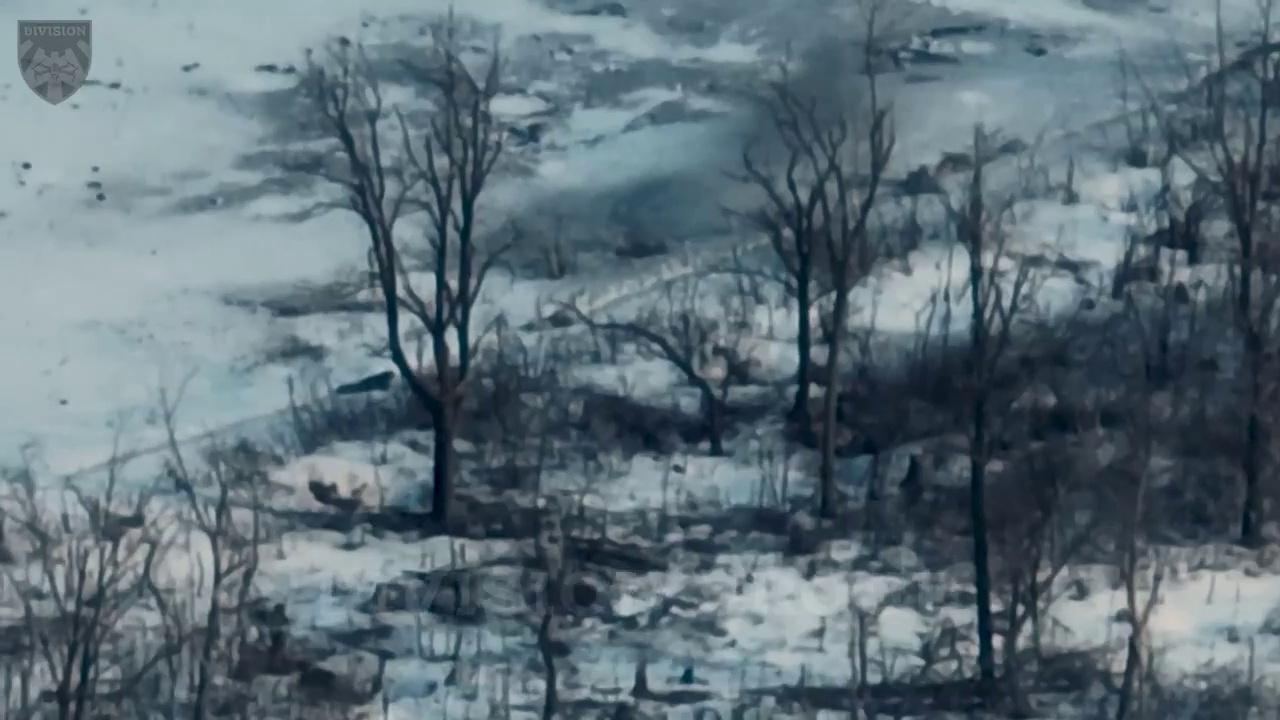person: (332, 368, 396, 402), (899, 451, 929, 518), (995, 132, 1037, 162), (904, 166, 948, 194), (934, 147, 979, 174)
